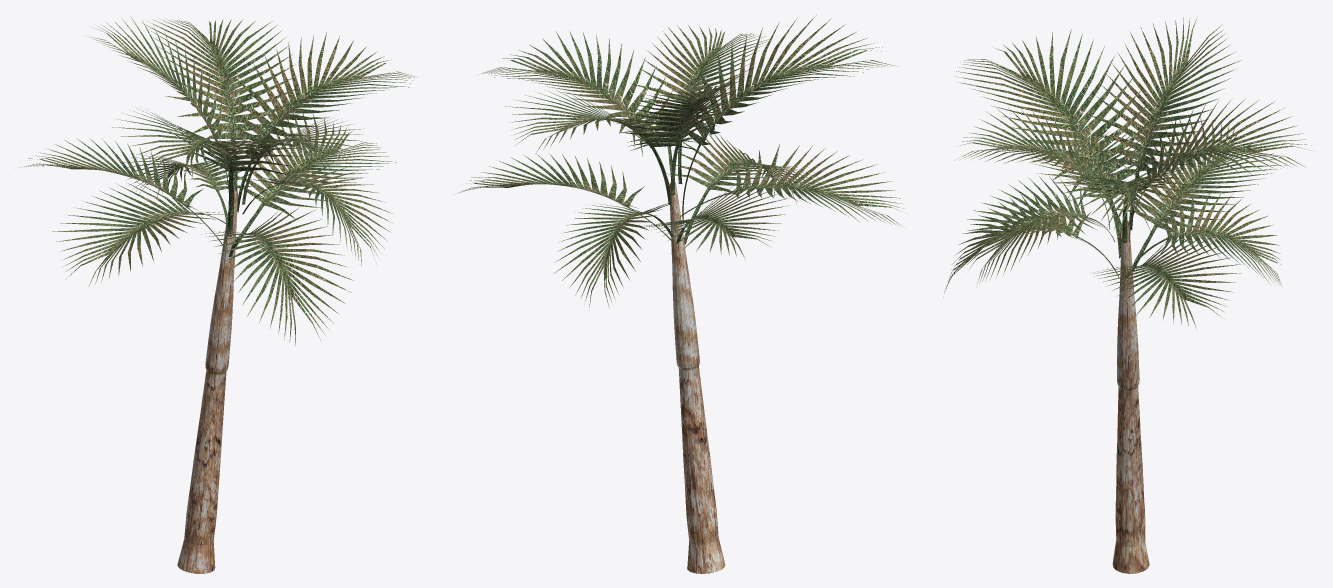
The model's file is palmtree.obj.
The picture shows the model from 3 angles, left to right: view 1: azimuth 30°, elevation 25°; view 2: azimuth 150°, elevation 25°; view 3: azimuth 270°, elevation 25°; orthographic projection. The views are drawn at different scales.
Parts seen in each view (by area): view 1: palm; view 2: palm; view 3: palm.
Part boxes in pixels (bbox=[...]): palm: bbox=[18, 17, 414, 573]; palm: bbox=[457, 14, 903, 573]; palm: bbox=[944, 17, 1311, 573].
Bounding box in the file's own units: 100 × 131 × 87.21.
3 materials, 3 textured.
